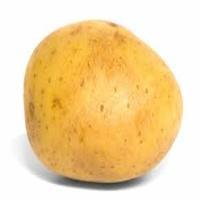biodegradable: (21, 18, 184, 184)
